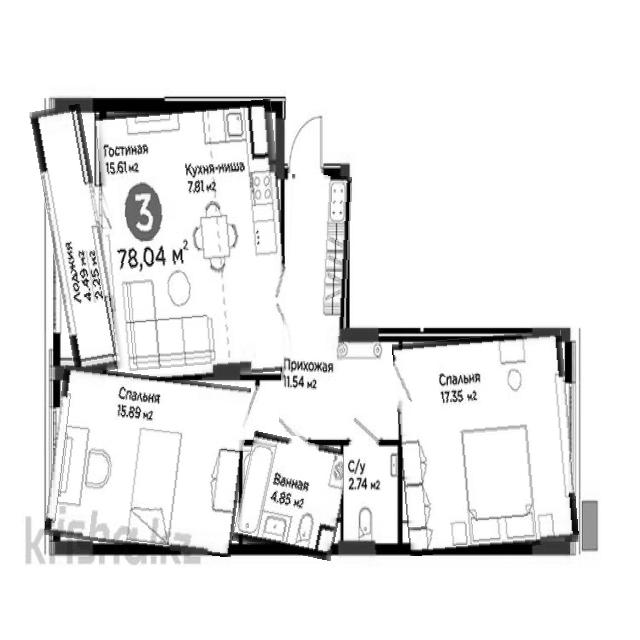balcony: (40, 106, 115, 376)
bathroom: (237, 436, 348, 556), (344, 442, 402, 550)
hallway: (282, 175, 349, 438)
living_room: (397, 332, 575, 552), (49, 371, 246, 552)
studio: (100, 103, 289, 382)
